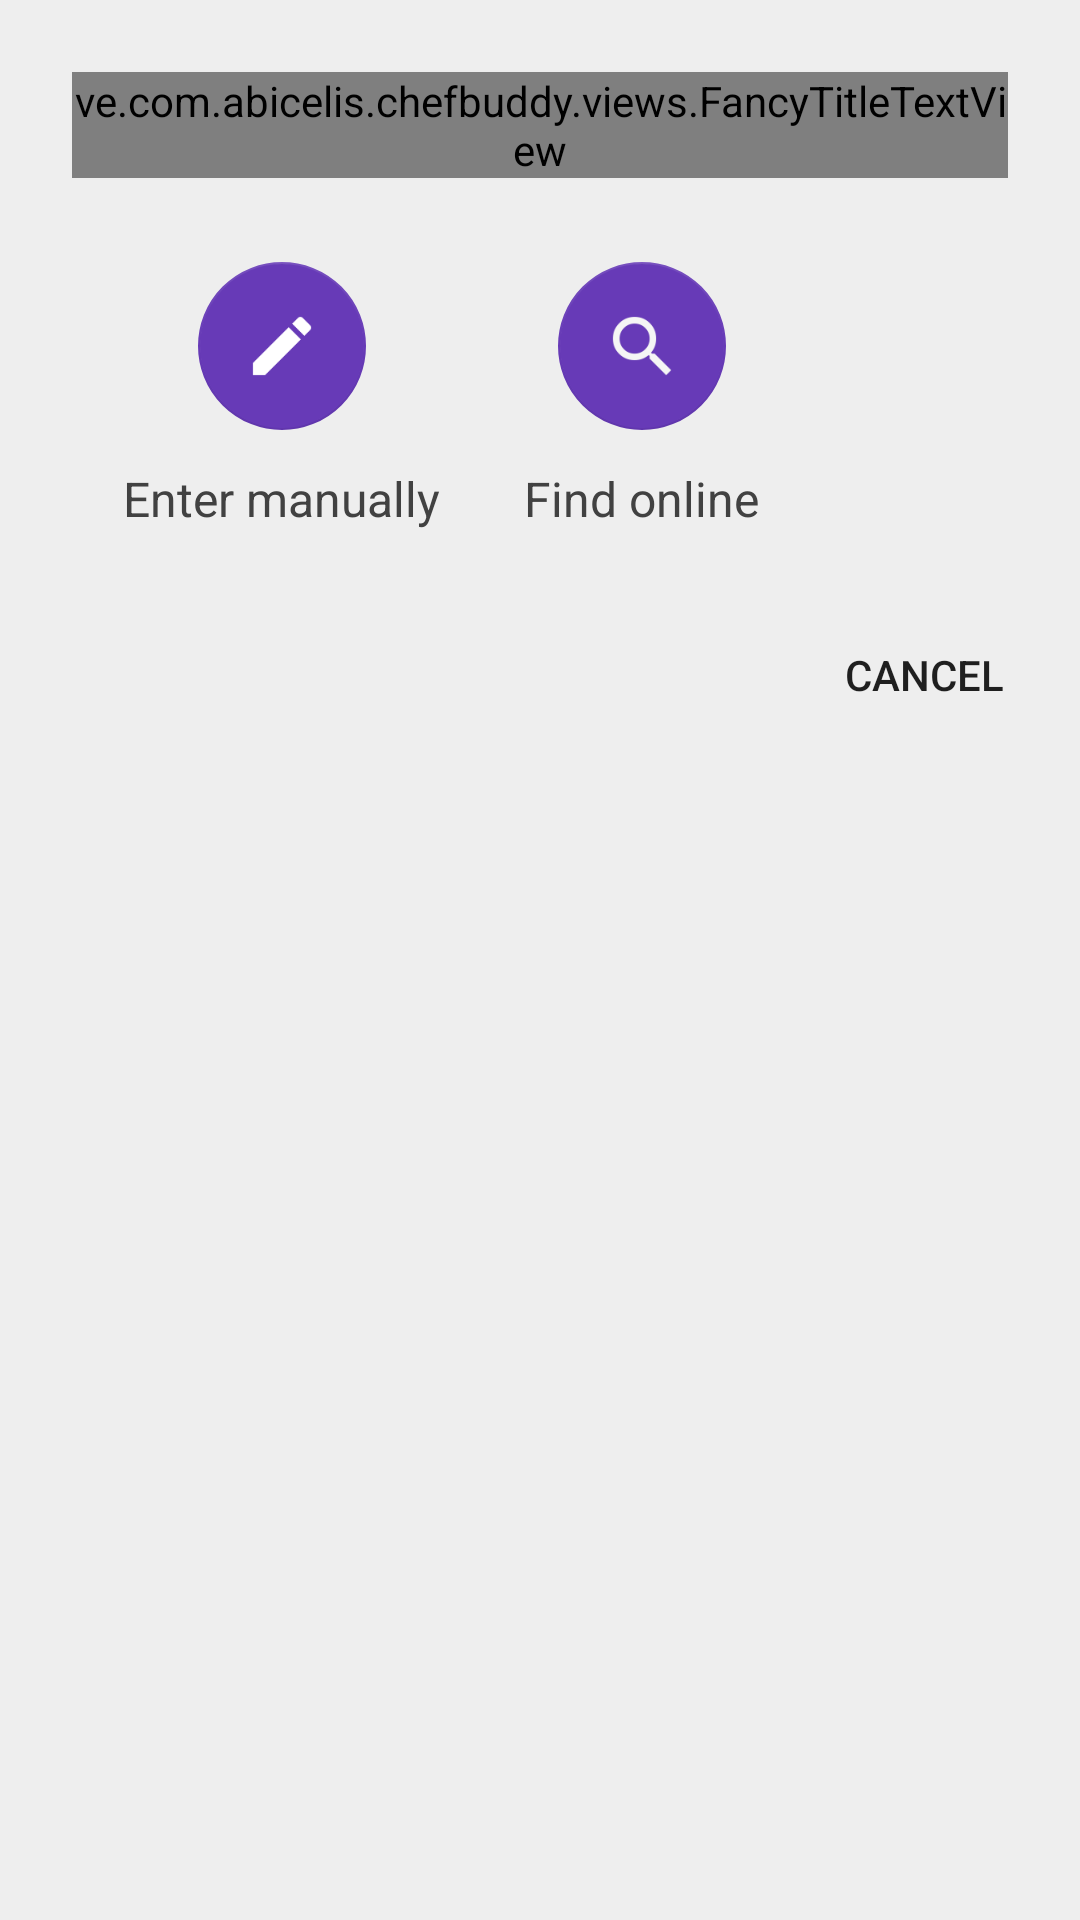

Icons on this 1080*1920 Android screen, each with its box as (x1, y1, x2, y2):
edit: (198, 262, 366, 430)
search: (558, 262, 726, 430)
